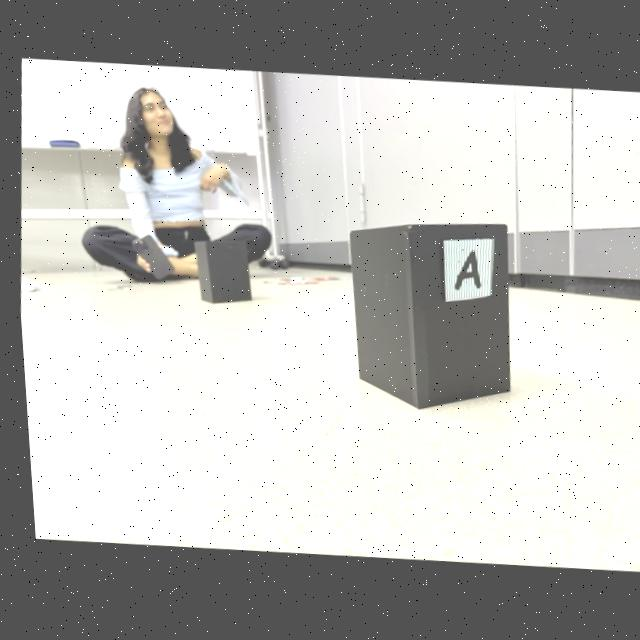A: (450, 251, 476, 290)
